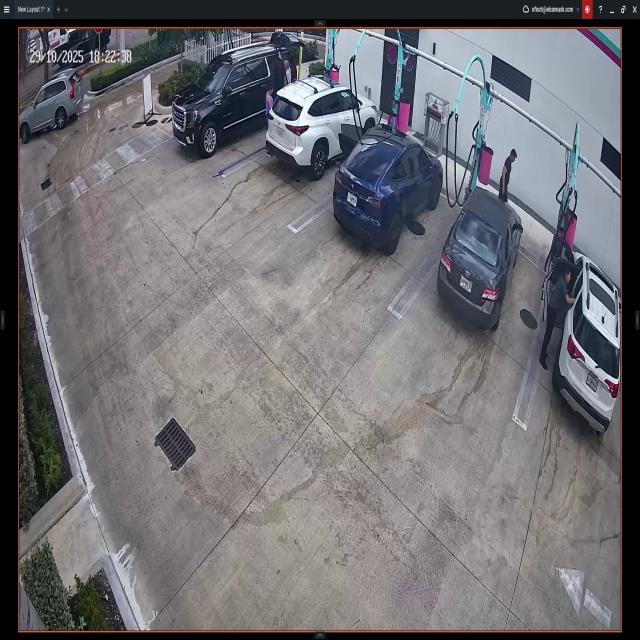Car: (555, 234, 621, 443), (334, 125, 442, 250), (172, 43, 296, 149), (439, 186, 522, 333), (266, 83, 376, 179), (20, 68, 84, 136)
